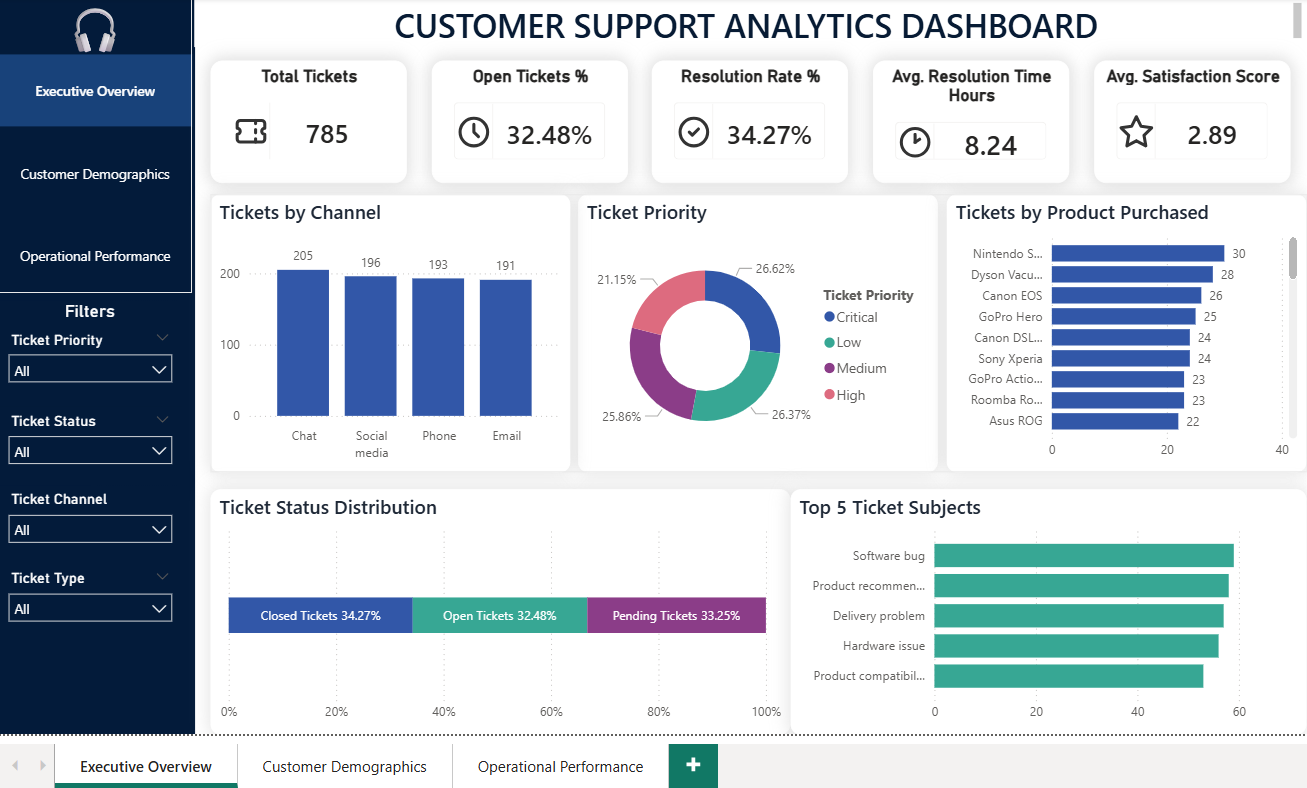

Layout of this report page (visuals, bound fields, positions):
{"tool":"powerbi","page":{"name":"Executive Overview","canvas":[1280,720],"ordinal":0},"visuals":[{"type":"cardVisual","title":"Total Tickets","fields":{"Data":["clean_customer_tickets.Total clean_customer_tickets"]},"box":[208,61,192,120],"z":0,"group":"g1"},{"type":"slicer","title":"Filters","fields":{"Values":["clean_customer_tickets.Ticket Priority"]},"box":[0,301.4,180,98.6],"z":0},{"type":"shape","box":[0,0,192.9,720],"z":1000},{"type":"cardVisual","title":"Open Tickets %","fields":{"Data":["clean_customer_tickets.% Open Tickets"]},"box":[424,61,192,120],"z":1000,"group":"g1"},{"type":"cardVisual","title":"Resolution Rate %","fields":{"Data":["clean_customer_tickets.% Closed Tickets"]},"box":[640,61,192,120],"z":2000,"group":"g1"},{"type":"donutChart","title":"Ticket Priority","fields":{"Y":["CountNonNull(clean_customer_tickets.Ticket ID)"],"Category":["clean_customer_tickets.Ticket Priority"]},"box":[568,192,352,272],"z":2000,"group":"g2"},{"type":"slicer","title":"Filters","fields":{"Values":["clean_customer_tickets.Ticket Priority"]},"box":[0,295.7,180,98.6],"z":2000},{"type":"clusteredColumnChart","title":"Tickets by Channel","fields":{"Category":["clean_customer_tickets.Ticket Channel"],"Y":["CountNonNull(clean_customer_tickets.Ticket ID)"]},"box":[208,192,352,272],"z":3000,"group":"g2"},{"type":"slicer","title":"Filters","fields":{"Values":["clean_customer_tickets.Ticket Status"]},"box":[0,400,180,77.1],"z":3000},{"type":"hundredPercentStackedBarChart","title":"Ticket Status Distribution","fields":{"Y":["clean_customer_tickets.% Closed Tickets","clean_customer_tickets.% Open Tickets","clean_customer_tickets.% Pending Tickets"]},"box":[208,480,567.5,240],"z":3000,"group":"g3"},{"type":"clusteredBarChart","title":"Tickets by Product Purchased","fields":{"Category":["clean_customer_tickets.Product Purchased"],"Y":["CountNonNull(clean_customer_tickets.Ticket ID)"]},"box":[928,192,352,272],"z":4000,"group":"g2"},{"type":"slicer","title":"Filters","fields":{"Values":["clean_customer_tickets.Ticket Channel"]},"box":[0,477.1,180,77.1],"z":4000},{"type":"clusteredBarChart","title":"Top 5 Ticket Subjects","fields":{"Category":["clean_customer_tickets.Ticket Subject"],"Y":["CountNonNull(clean_customer_tickets.Ticket ID)"]},"box":[775.5,480,504.5,240],"z":4000,"group":"g3"},{"type":"cardVisual","title":"Avg. Satisfaction Score","fields":{"Data":["Avg(clean_customer_tickets.Customer Satisfaction Rating)"]},"box":[1072,61,192,120],"z":5000,"group":"g1"},{"type":"slicer","title":"Filters","fields":{"Values":["clean_customer_tickets.Ticket Type"]},"box":[0,554.3,180,77.1],"z":5000},{"type":"pageNavigator","title":"🎧","box":[0,0,190,288.6],"z":6000},{"type":"cardVisual","title":"Avg. Resolution Time Hours","fields":{"Data":["clean_customer_tickets.Avg Resolution Time"]},"box":[856,61,192,120],"z":6000,"group":"g1"},{"type":"textbox","box":[192,0,1088,48],"z":7000},{"type":"group","id":"g1","title":"Group 2","box":[208,61,1056,120],"z":8000},{"type":"group","id":"g2","title":"Group 1","box":[208,192,1072,272],"z":9000},{"type":"group","id":"g3","title":"Group 3","box":[208,480,1072,240],"z":10000}]}

Visuals, with their boxes on the page's 1280x720 design canvas (x1, y1, x2, y2). These are canvas units, not pixel positions in the 1307x788 screenshot, which may show the page scaled, cropped or inside an application window:
"Total Tickets" cardVisual: [208,61,400,181]
"Filters" slicer: [0,301,180,400]
shape: [0,0,193,720]
"Open Tickets %" cardVisual: [424,61,616,181]
"Resolution Rate %" cardVisual: [640,61,832,181]
"Ticket Priority" donutChart: [568,192,920,464]
"Filters" slicer: [0,296,180,394]
"Tickets by Channel" clusteredColumnChart: [208,192,560,464]
"Filters" slicer: [0,400,180,477]
"Ticket Status Distribution" hundredPercentStackedBarChart: [208,480,776,720]
"Tickets by Product Purchased" clusteredBarChart: [928,192,1280,464]
"Filters" slicer: [0,477,180,554]
"Top 5 Ticket Subjects" clusteredBarChart: [776,480,1280,720]
"Avg. Satisfaction Score" cardVisual: [1072,61,1264,181]
"Filters" slicer: [0,554,180,631]
"🎧" pageNavigator: [0,0,190,289]
"Avg. Resolution Time Hours" cardVisual: [856,61,1048,181]
textbox: [192,0,1280,48]
"Group 2" group: [208,61,1264,181]
"Group 1" group: [208,192,1280,464]
"Group 3" group: [208,480,1280,720]
